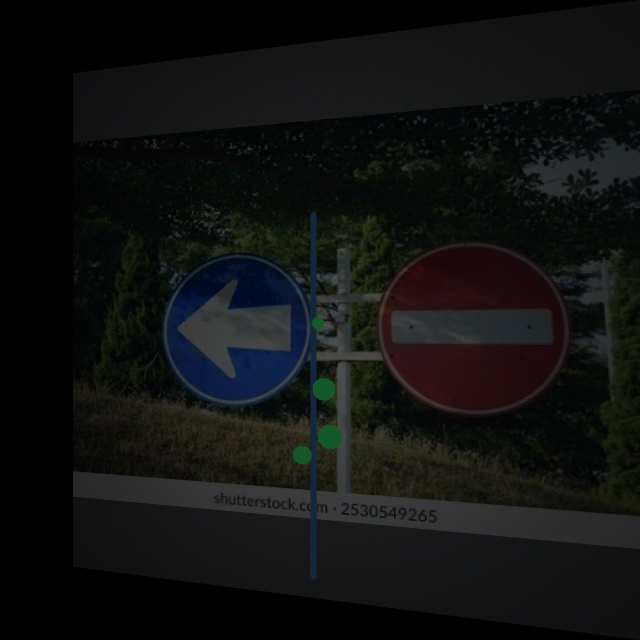Compulsory_Turn_Left: (160, 249, 312, 408)
